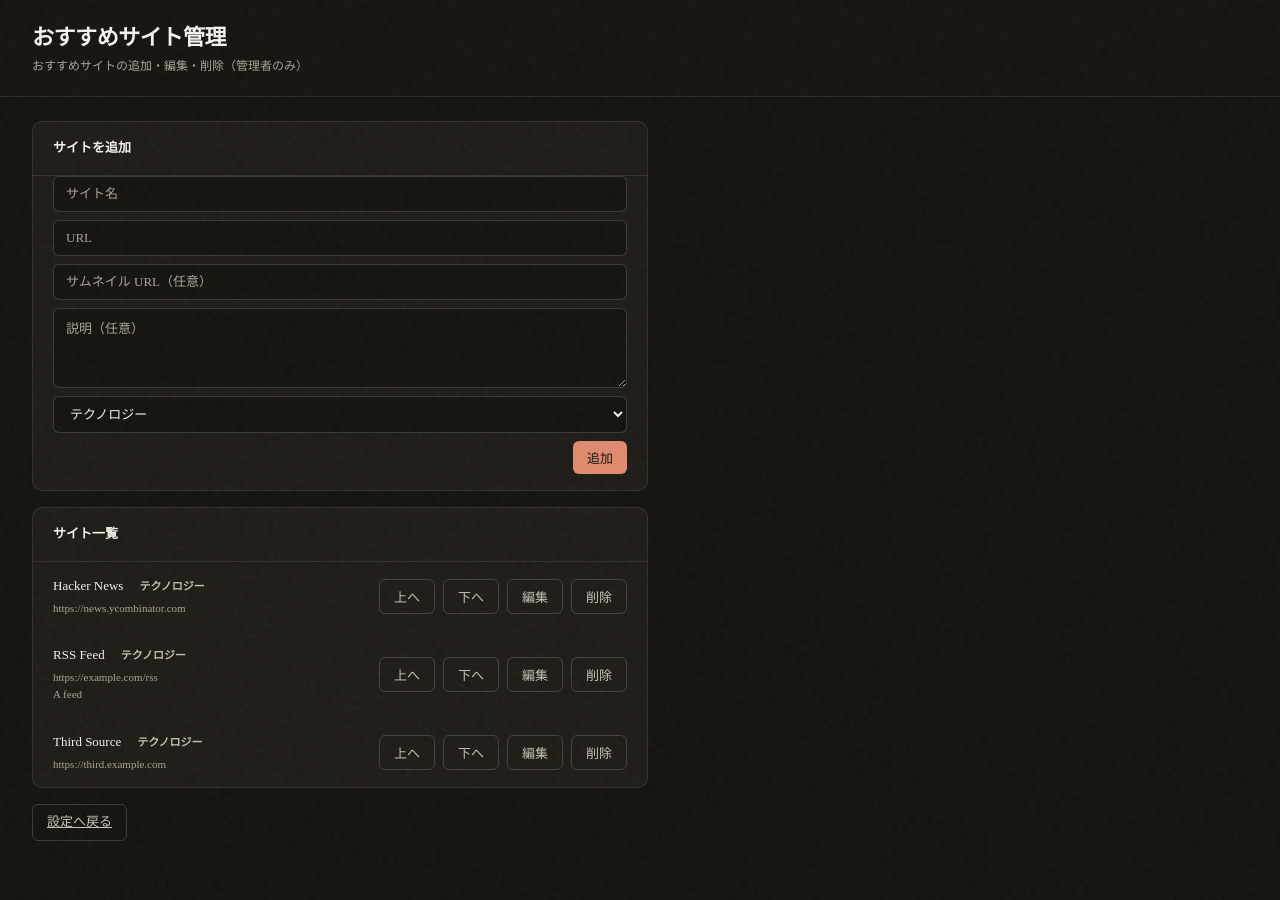
Test: AdminFeaturedSitesPage › 並び替え失敗時のエラーメッセージは reload 完了後も表示され続ける（回帰テスト）
Expected: the text "RSS Feed" is shown, [53,647,105,662]
Click the button with aria-label "を下へ移動" at (471,674), box [443,657,499,692]
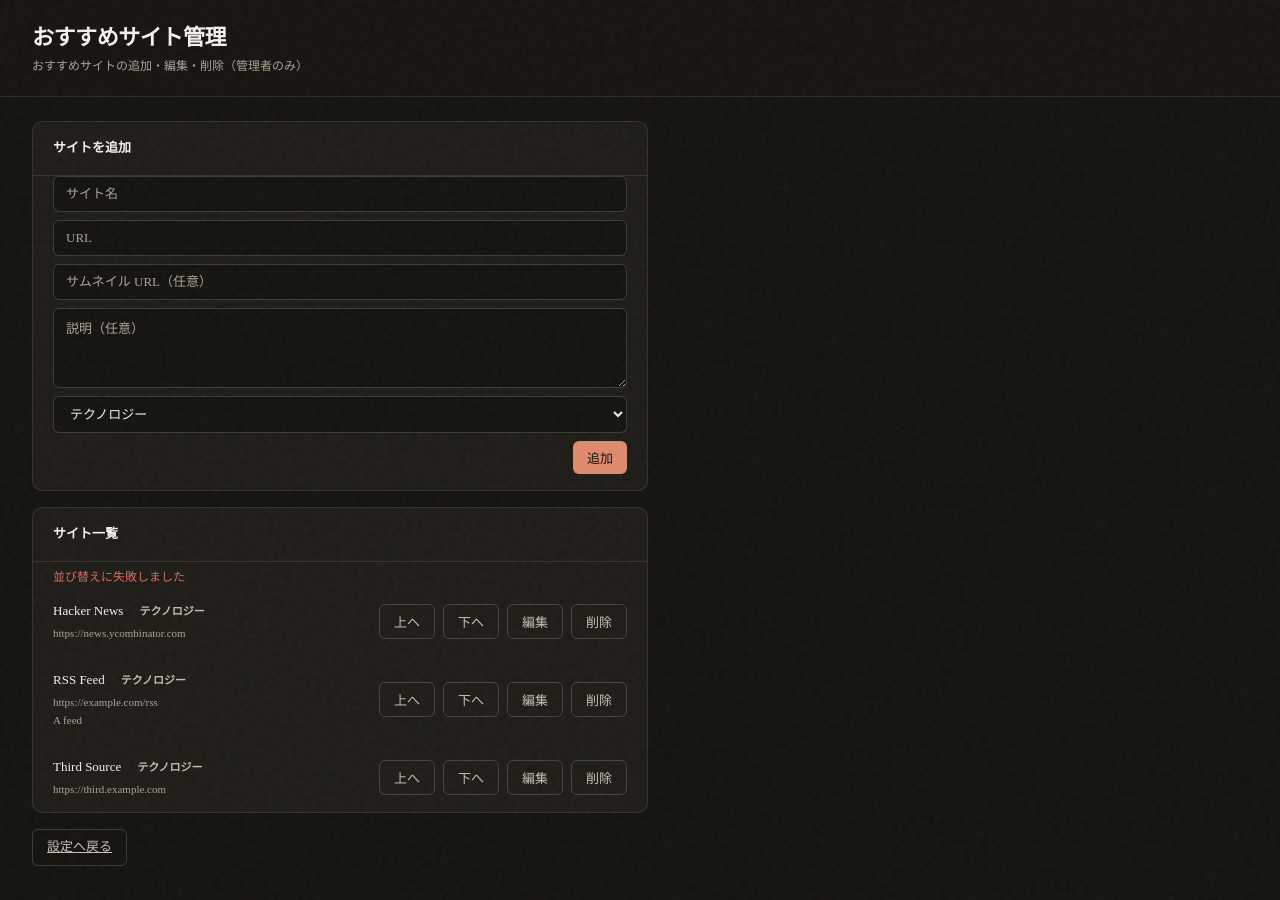
Now the text "並び替えに失敗しました" is shown, box [53,570,185,584]
